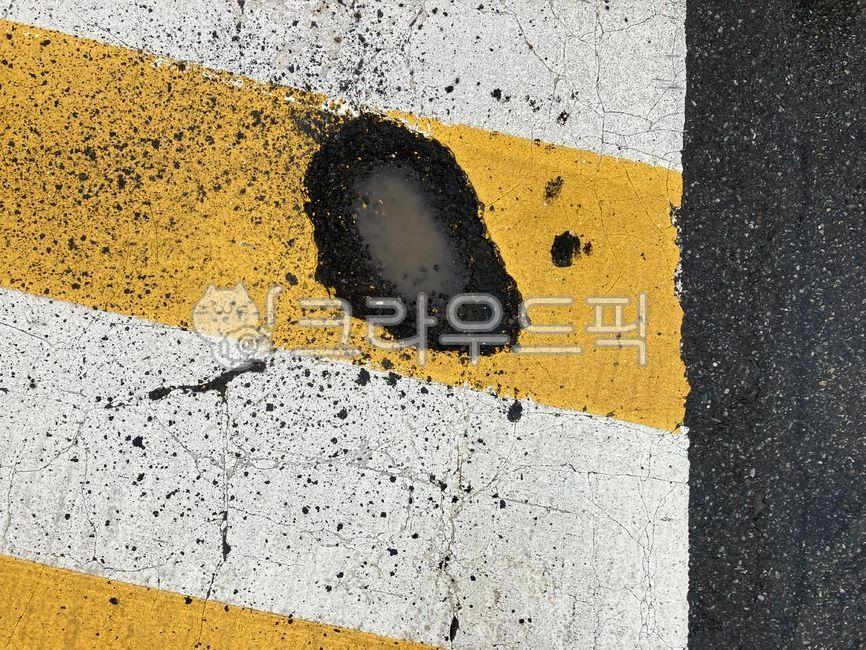pothole: (278, 73, 580, 383)
